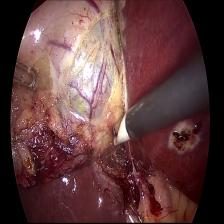Grasper: (14, 52, 38, 92)
Hook: (110, 110, 132, 158)
